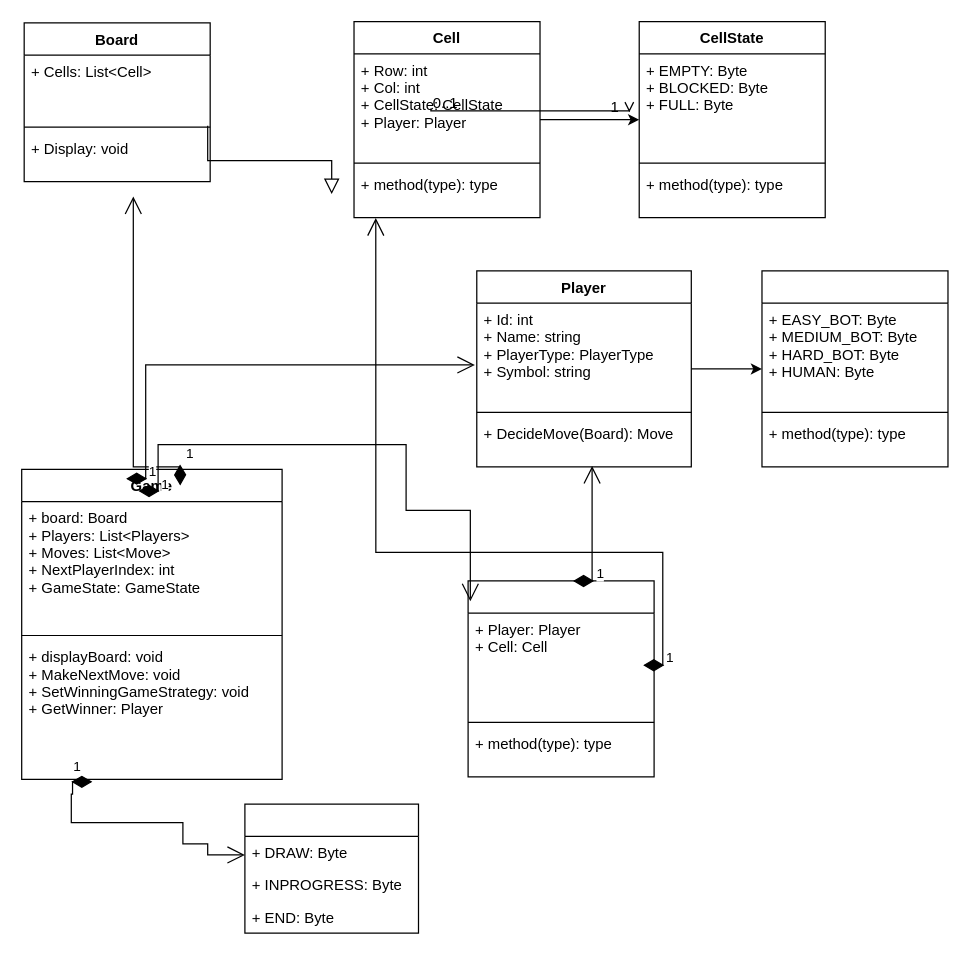
Image size: 970x959. Some labels were removed from this diagram. Here are the shapes that lost their labels. From the top down, the box of each, then its label:
(761, 270, 948, 467): PlayerType
(467, 580, 654, 777): Move
(244, 803, 418, 933): GateState
